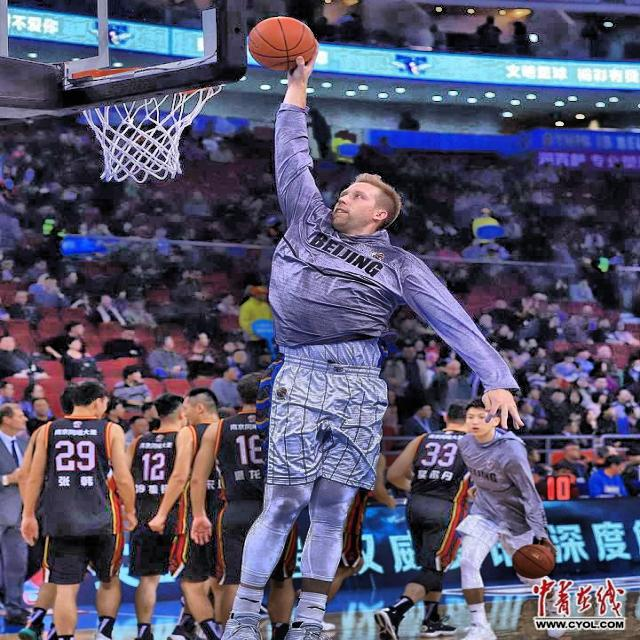board: (248, 16, 314, 72), (512, 544, 555, 578)
rim: (64, 67, 232, 181)
